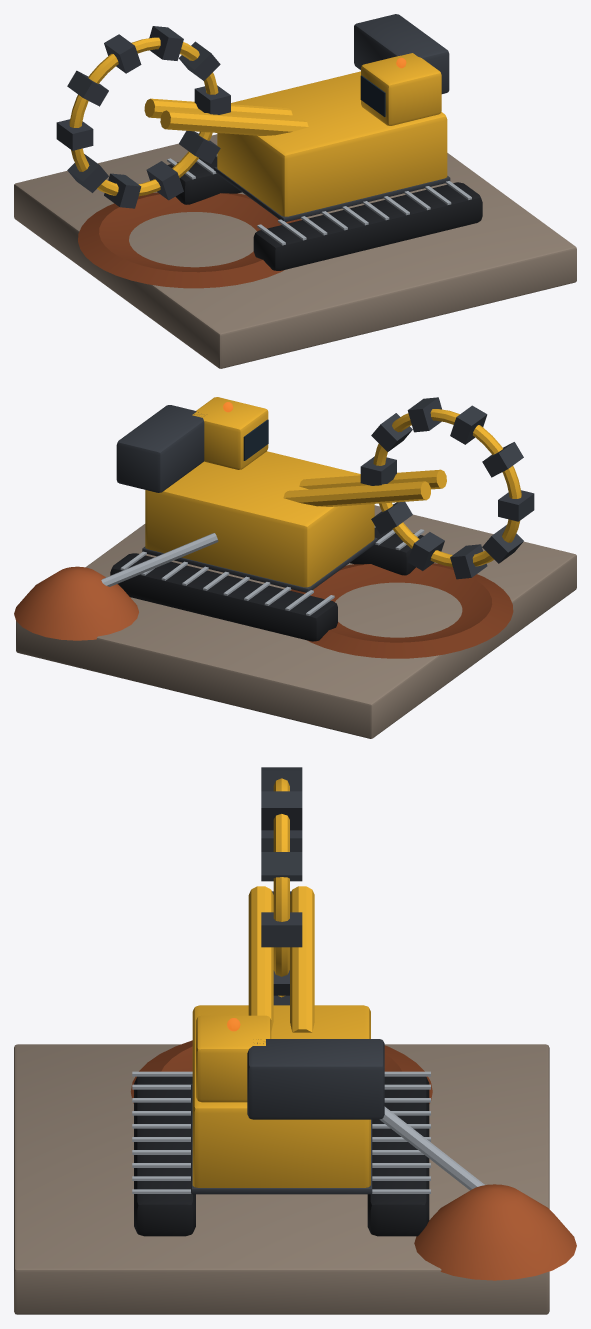
Rendered from megadigger.glb.
3 views of the same model, one above another, from view 1: azimuth 30°, elevation 25°; view 2: azimuth 150°, elevation 25°; view 3: azimuth 270°, elevation 25° (orthographic). The views are drawn at different scales.
Visible parts, largest first — view 1: megadigger, spin_wheel_rim.001, spin_bucket.015, spin_bucket.013, spin_bucket.018, spin_bucket.010, spin_bucket.017, spin_bucket.012, spin_bucket.014, spin_bucket.019, spin_bucket.011, spin_bucket.016; view 2: megadigger, spin_wheel_rim.001, spin_bucket.015, spin_bucket.013, spin_bucket.018, spin_bucket.010, spin_bucket.012, spin_bucket.017, spin_bucket.014, spin_bucket.019, spin_bucket.016, spin_bucket.011; view 3: megadigger, spin_wheel_rim.001, spin_bucket.012, spin_bucket.010, spin_bucket.011, spin_bucket.013.
Boxes of the visible parts, <box> form: megadigger: <box>14,14,576,368</box>; spin_wheel_rim.001: <box>69,37,218,196</box>; spin_bucket.015: <box>56,119,93,150</box>; spin_bucket.013: <box>104,34,141,73</box>; spin_bucket.018: <box>146,161,183,200</box>; spin_bucket.010: <box>194,85,230,114</box>; spin_bucket.017: <box>104,173,141,208</box>; spin_bucket.012: <box>149,26,183,60</box>; spin_bucket.014: <box>67,70,108,106</box>; spin_bucket.019: <box>179,131,220,163</box>; spin_bucket.011: <box>178,41,220,80</box>; spin_bucket.016: <box>67,154,108,192</box>; megadigger: <box>14,397,576,738</box>; spin_wheel_rim.001: <box>373,409,521,566</box>; spin_bucket.015: <box>498,490,534,521</box>; spin_bucket.013: <box>450,405,487,444</box>; spin_bucket.018: <box>408,532,444,570</box>; spin_bucket.010: <box>360,456,396,485</box>; spin_bucket.012: <box>407,397,441,432</box>; spin_bucket.017: <box>450,544,487,579</box>; spin_bucket.014: <box>482,442,523,477</box>; spin_bucket.019: <box>371,501,412,534</box>; spin_bucket.016: <box>482,525,523,563</box>; spin_bucket.011: <box>371,413,412,451</box>; megadigger: <box>14,886,576,1314</box>; spin_wheel_rim.001: <box>273,778,289,997</box>; spin_bucket.012: <box>261,791,302,830</box>; spin_bucket.010: <box>261,912,302,947</box>; spin_bucket.011: <box>261,852,302,881</box>; spin_bucket.013: <box>261,767,302,791</box>.
Size of the model in its own units: 9.23 by 5.24 by 8.2.
